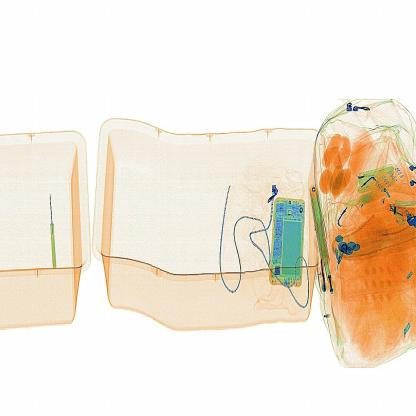wrench: (41, 179, 60, 278)
